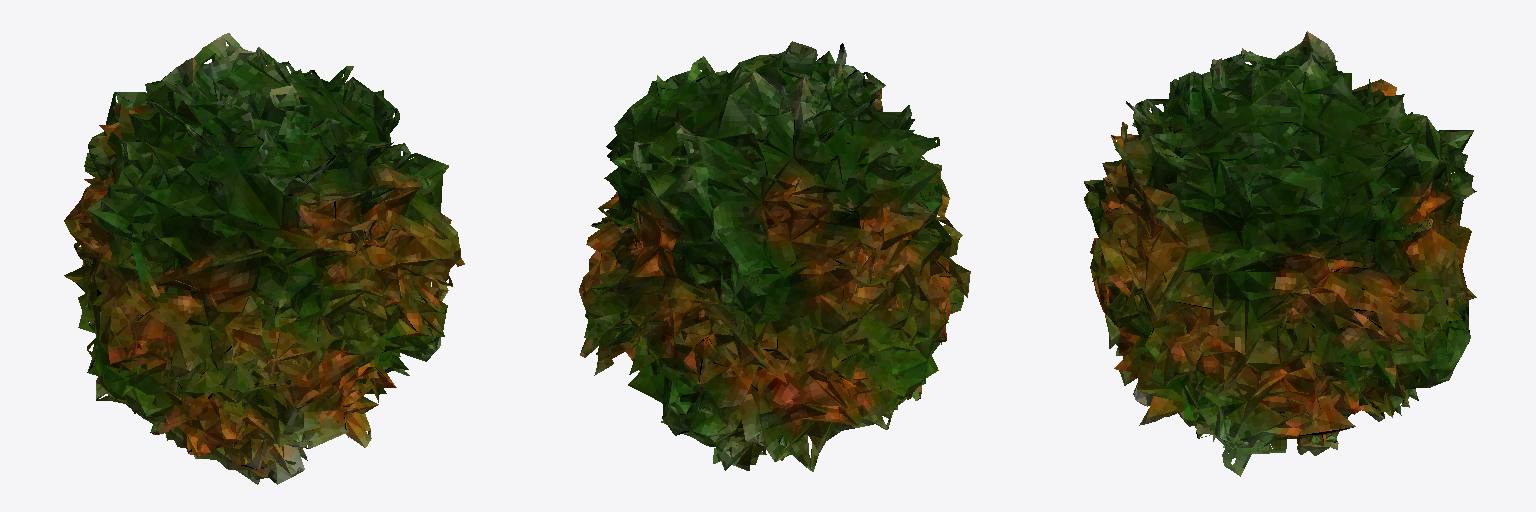
3 renders of one model, left to right at view 1: azimuth 30°, elevation 25°; view 2: azimuth 150°, elevation 25°; view 3: azimuth 270°, elevation 25°, orthographic.
Parts seen in each view (by area): view 1: mesh; view 2: mesh; view 3: mesh.
Boxes of the visible parts, box(x1,y1,x2,y2) form: mesh: box(64, 33, 464, 484); mesh: box(579, 41, 970, 471); mesh: box(1084, 31, 1476, 476).
Size of the model in its own units: 0.8654 by 0.9978 by 0.886.
Materials: 1 (1 with a texture image).